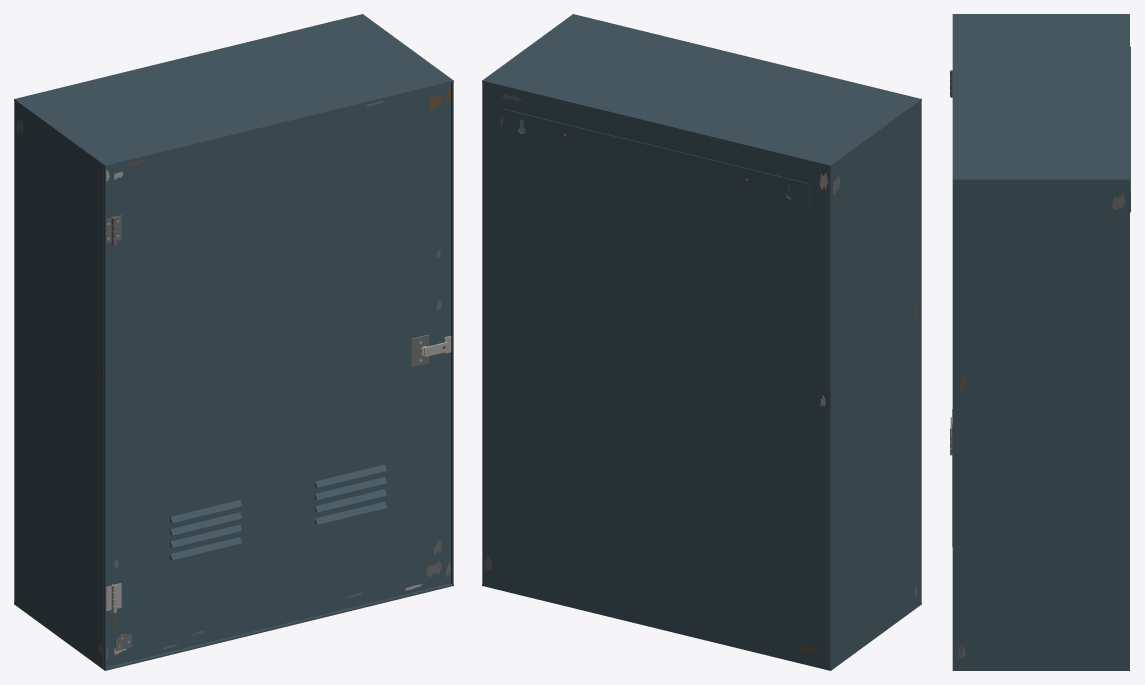
File: kitchen-wall-locker-55addb0dc424.glb
3 views of the same model, side by side, from view 1: azimuth 30°, elevation 25°; view 2: azimuth 150°, elevation 25°; view 3: azimuth 270°, elevation 25° (orthographic). The views are drawn at different scales.
Visible parts, largest first — view 1: enamel-blue, metal, brushed; view 2: enamel-blue; view 3: enamel-blue, metal.
Part boxes in pixels (x1,y1,x2,y2): enamel-blue: (14,14,453,670); metal: (16,101,450,659); brushed: (106,169,451,654); enamel-blue: (482,14,921,670); enamel-blue: (952,14,1130,670); metal: (950,70,1125,659).
Size of the model in its own units: 0.65 by 0.9 by 0.3.
